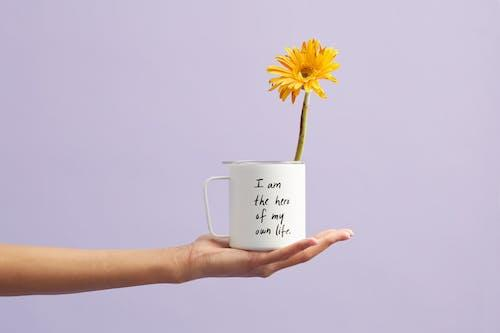Mug: (193, 137, 328, 254)
